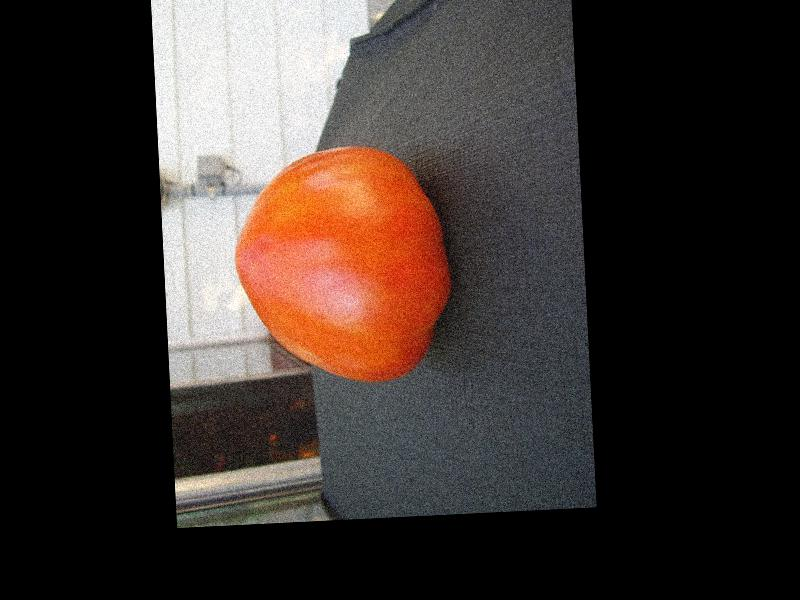Tomato: (228, 142, 453, 388)
